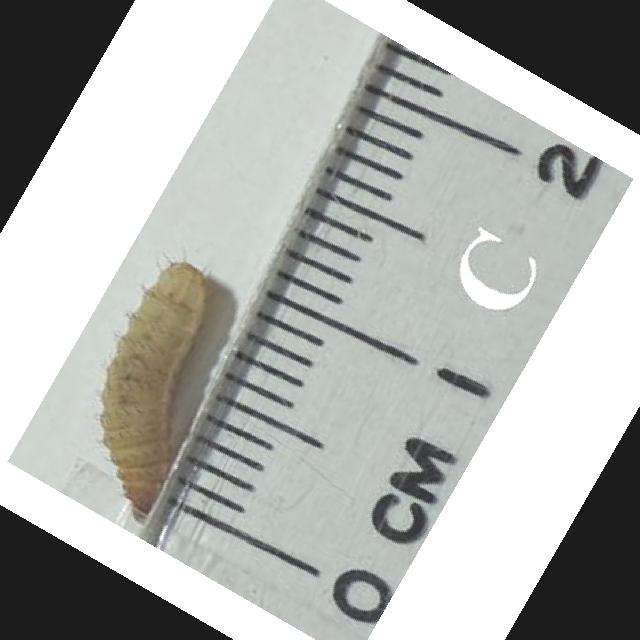Maggot: (97, 262, 213, 520)
